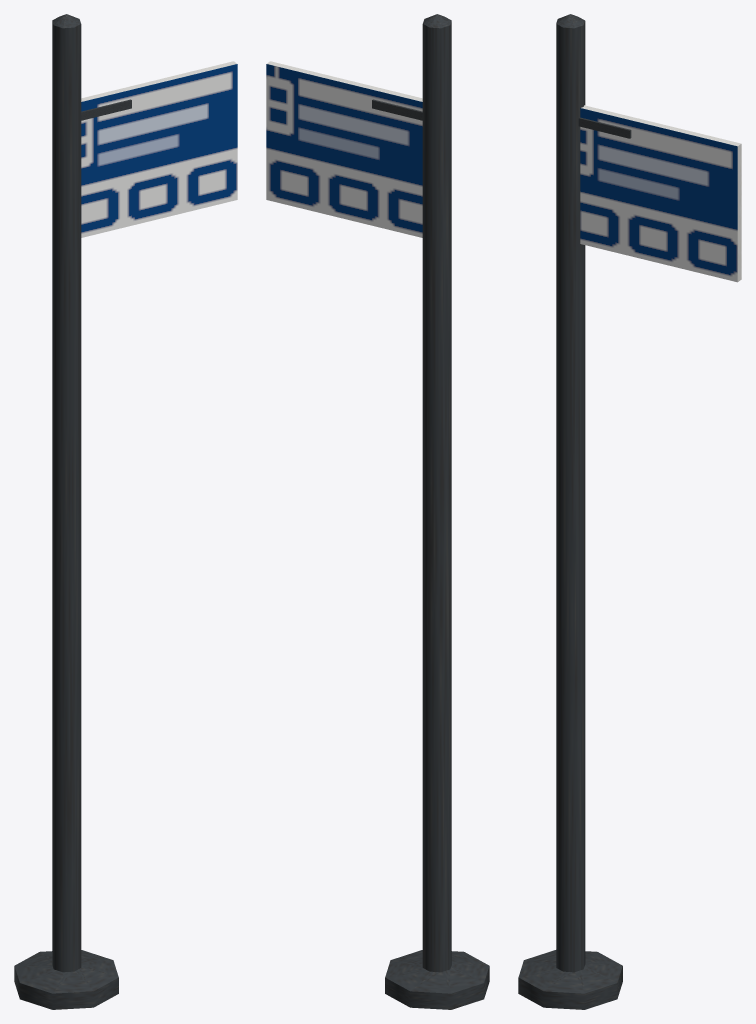
The model's file is mast_tram.glb.
3 views of the same model, side by side, from view 1: azimuth 30°, elevation 25°; view 2: azimuth 150°, elevation 25°; view 3: azimuth 330°, elevation 25° (orthographic).
Visible parts, largest first — view 1: mast_tram; view 2: mast_tram; view 3: mast_tram.
Boxes of the visible parts, box(x1,y1,x2,y2) form: mast_tram: box(14, 14, 237, 1009); mast_tram: box(266, 14, 489, 1009); mast_tram: box(518, 14, 741, 1009).
Bounding box in the file's own units: 0.83 × 3.58 × 0.36.
Materials: 1 (1 with a texture image).
